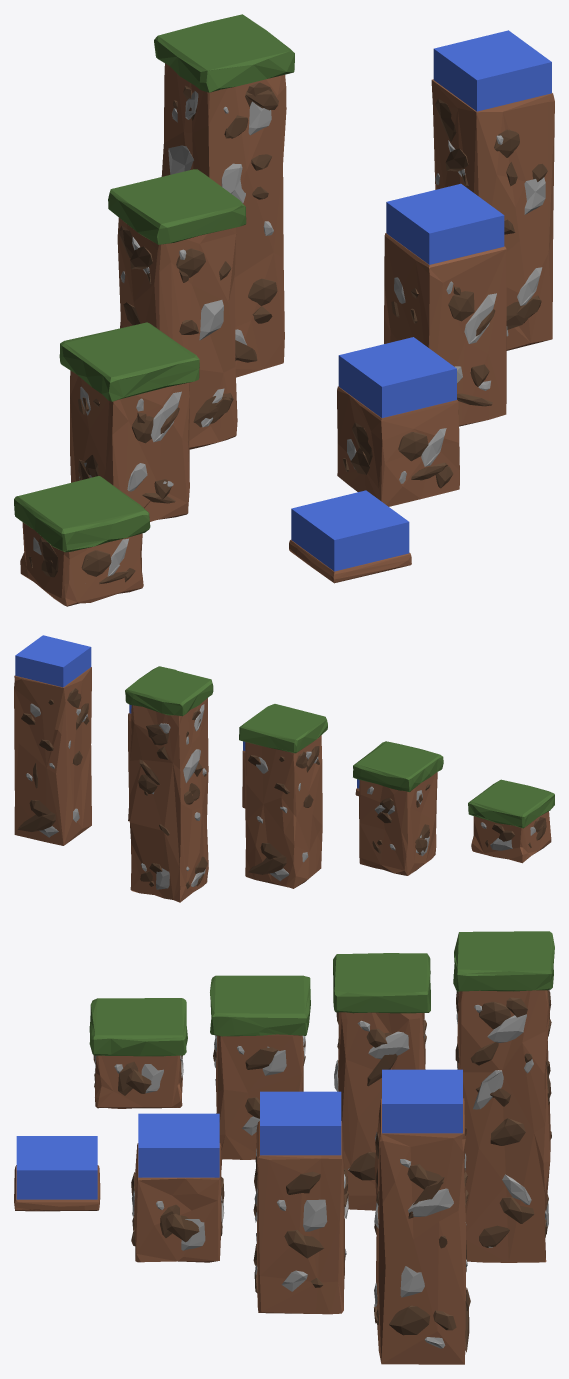
Rendered from TileSet.fbx.
The picture shows the model from 3 angles, top to bottom: view 1: azimuth 30°, elevation 25°; view 2: azimuth 150°, elevation 25°; view 3: azimuth 270°, elevation 25°; orthographic projection. The views are drawn at different scales.
Visible parts, largest first — view 1: Tile_h4, Tile_h3, Tile_h2, Base.004, Base.003, Tile_h1, Base.002, WaterPlane.003, WaterPlane.002, WaterPlane, WaterPlane.001, SideF (+25 smaller); view 2: Tile_h4, Tile_h3, Base.004, Tile_h2, Tile_h1, WaterPlane.003, Rocks1.003, Rocks3.003, SideB.003, Rocks1.006, Rocks2.003, Rocks2.006 (+6 smaller); view 3: Tile_h4, Base.004, Tile_h3, Tile_h2, Base.003, Tile_h1, Base.002, WaterPlane.001, WaterPlane, WaterPlane.002, WaterPlane.003, SideL (+20 smaller).
Boxes of the visible parts, left/top/right/bottom form: Tile_h4: left=154, top=14, right=294, bottom=377; Tile_h3: left=108, top=169, right=246, bottom=449; Tile_h2: left=59, top=322, right=199, bottom=521; Base.004: left=431, top=79, right=554, bottom=350; Base.003: left=384, top=233, right=506, bottom=426; Tile_h1: left=14, top=476, right=150, bottom=606; Base.002: left=337, top=386, right=459, bottom=506; WaterPlane.003: left=434, top=30, right=551, bottom=79; WaterPlane.002: left=387, top=183, right=503, bottom=233; WaterPlane: left=291, top=490, right=408, bottom=539; WaterPlane.001: left=339, top=337, right=456, bottom=386; SideF: left=334, top=522, right=409, bottom=571; Tile_h4: left=125, top=666, right=213, bottom=902; Tile_h3: left=239, top=704, right=327, bottom=888; Base.004: left=14, top=667, right=91, bottom=845; Tile_h2: left=353, top=741, right=443, bottom=875; Tile_h1: left=468, top=779, right=554, bottom=863; WaterPlane.003: left=15, top=635, right=90, bottom=667; Rocks1.003: left=138, top=708, right=207, bottom=888; Rocks3.003: left=141, top=704, right=206, bottom=889; SideB.003: left=15, top=655, right=63, bottom=687; Rocks1.006: left=21, top=688, right=89, bottom=816; Rocks2.003: left=139, top=719, right=203, bottom=886; Rocks2.006: left=17, top=703, right=88, bottom=831; Tile_h4: left=453, top=931, right=554, bottom=1262; Base.004: left=374, top=1098, right=465, bottom=1364; Tile_h3: left=333, top=953, right=430, bottom=1210; Tile_h2: left=210, top=975, right=310, bottom=1159; Base.003: left=256, top=1121, right=344, bottom=1314; Tile_h1: left=89, top=998, right=187, bottom=1108; Base.002: left=134, top=1143, right=221, bottom=1262; WaterPlane.001: left=138, top=1113, right=219, bottom=1147; WaterPlane: left=16, top=1136, right=97, bottom=1170; WaterPlane.002: left=260, top=1091, right=341, bottom=1125; WaterPlane.003: left=382, top=1069, right=462, bottom=1103; SideL: left=16, top=1170, right=97, bottom=1199.
Bounding box in the file's own units: 34.8 × 16.17 × 26.66.
